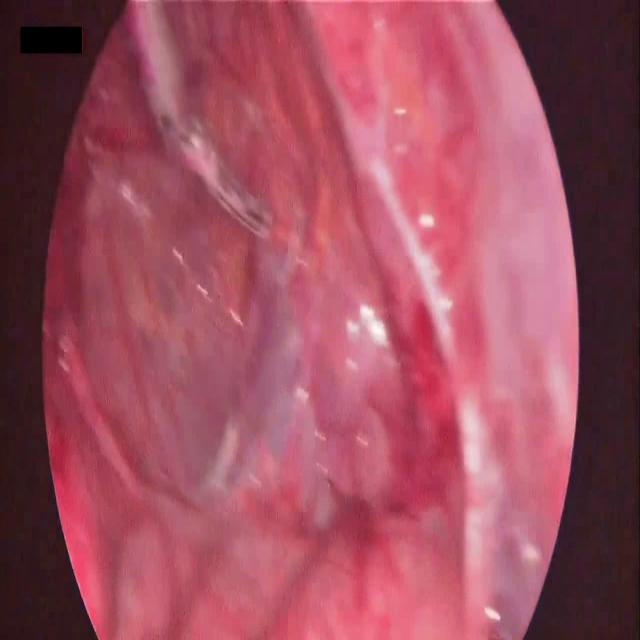surgical-area: (39, 0, 580, 639)
